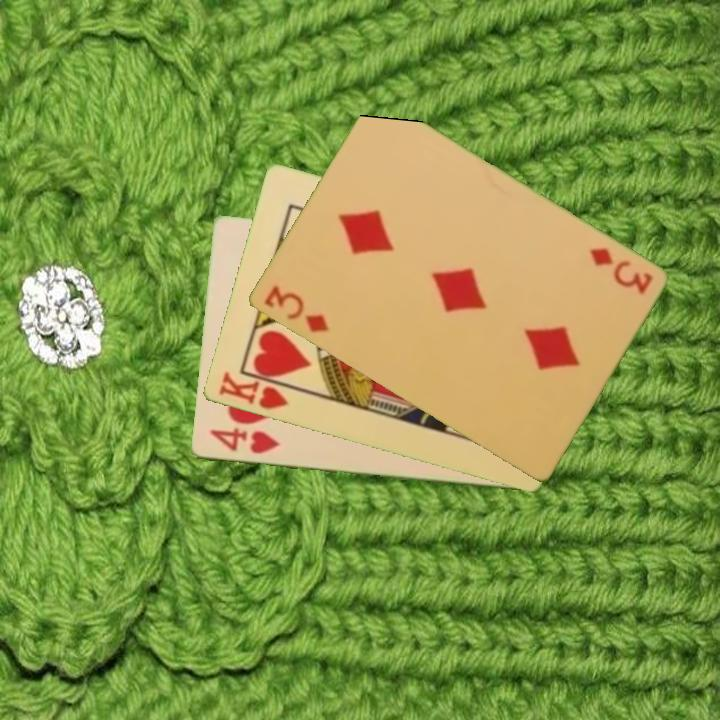3d: (259, 281, 331, 336), (585, 244, 655, 297)
4h: (206, 426, 283, 458)
Kh: (214, 368, 300, 413)
